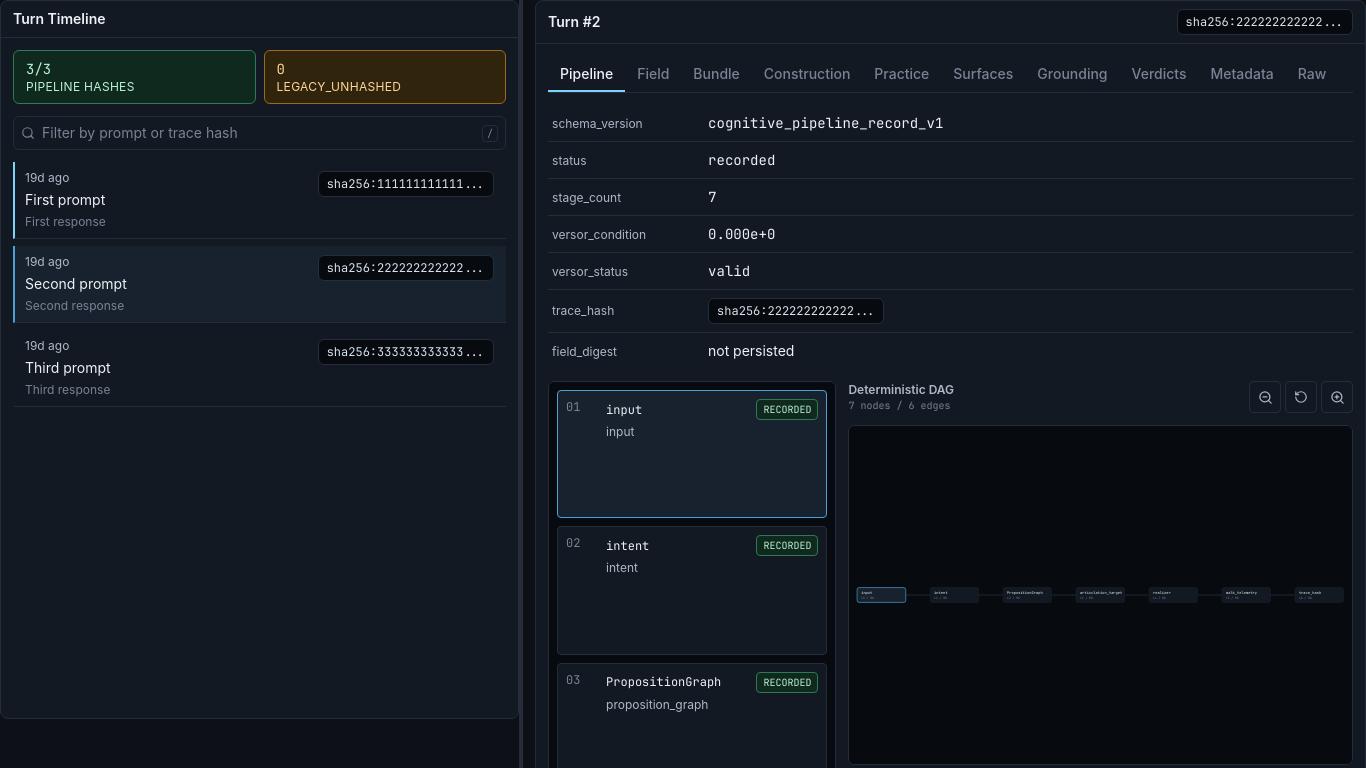
TraceRoute › renders the three surface labels distinctly
Click the tab "Surfaces" at (983, 74), box [941, 56, 1025, 92]
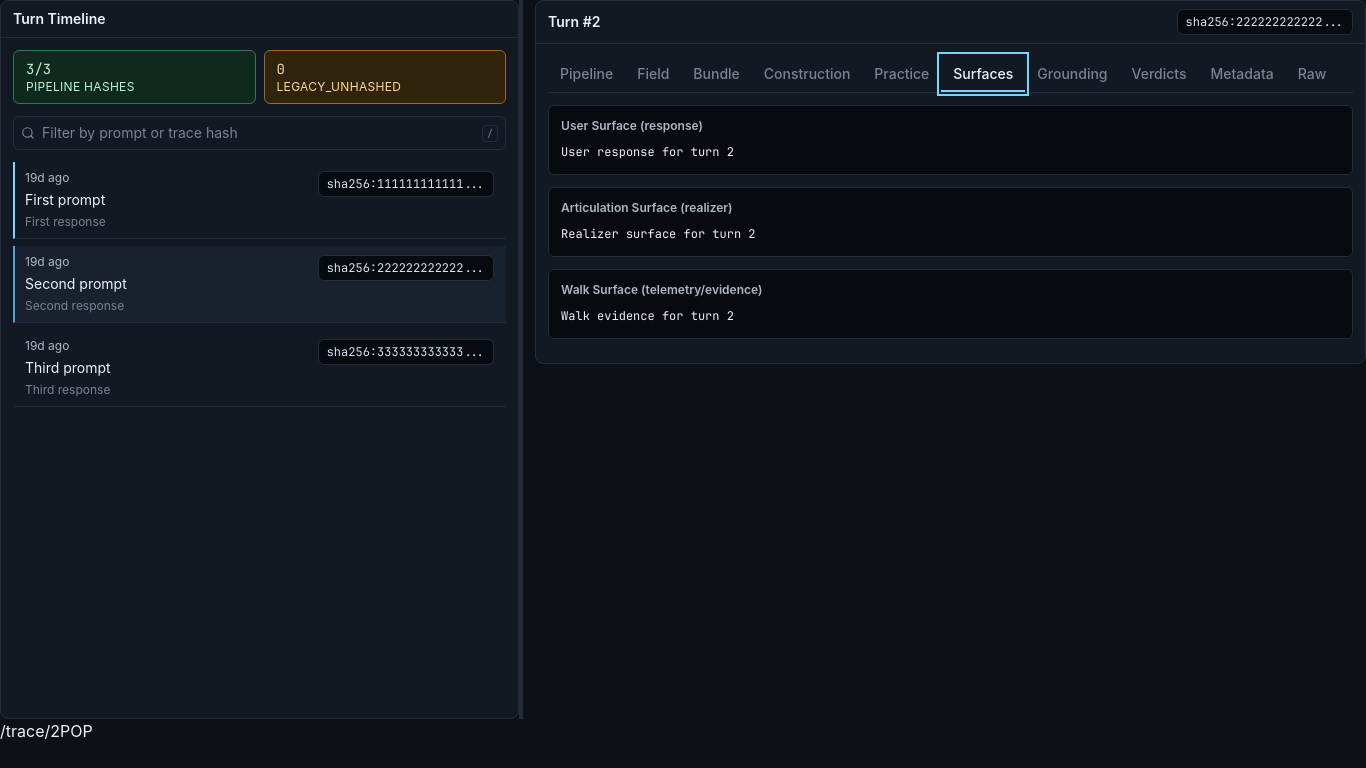
Expected: the heading "User Surface (response)" is shown, [561, 118, 703, 133]
Expected: the heading "Articulation Surface (realizer)" is shown, [561, 200, 733, 215]
Expected: the heading "Walk Surface (telemetry/evidence)" is shown, [561, 282, 762, 297]
